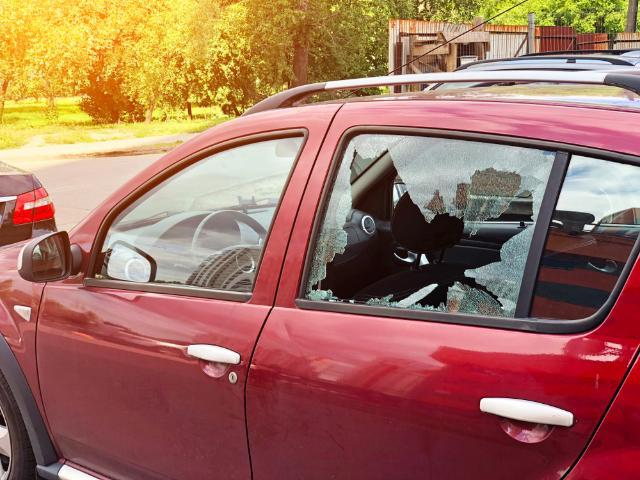glass shatter: (304, 133, 557, 318)
